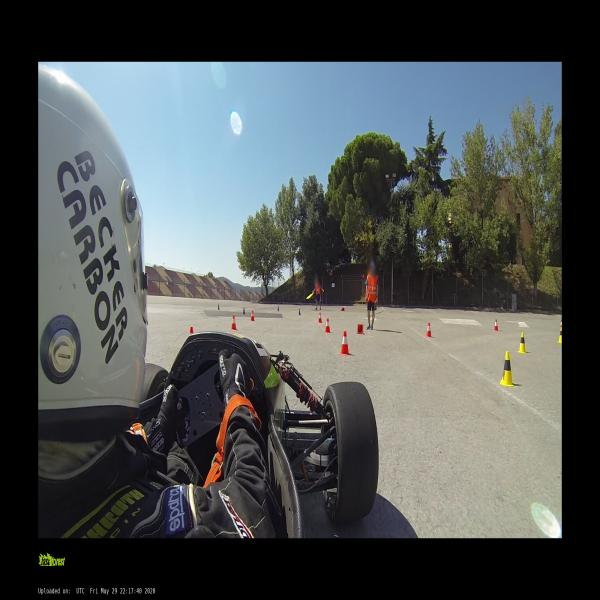blue_cone: (298, 308, 300, 316), (243, 307, 245, 314), (218, 303, 220, 310), (277, 305, 279, 311)
orange_cone: (340, 331, 350, 355), (426, 322, 432, 338), (324, 318, 330, 333), (231, 315, 236, 329), (357, 324, 364, 334), (250, 311, 255, 321), (189, 326, 194, 336), (494, 319, 498, 331), (318, 312, 322, 323), (560, 319, 561, 329)
yellow_cone: (500, 351, 515, 387), (517, 332, 528, 354), (558, 326, 562, 344)
